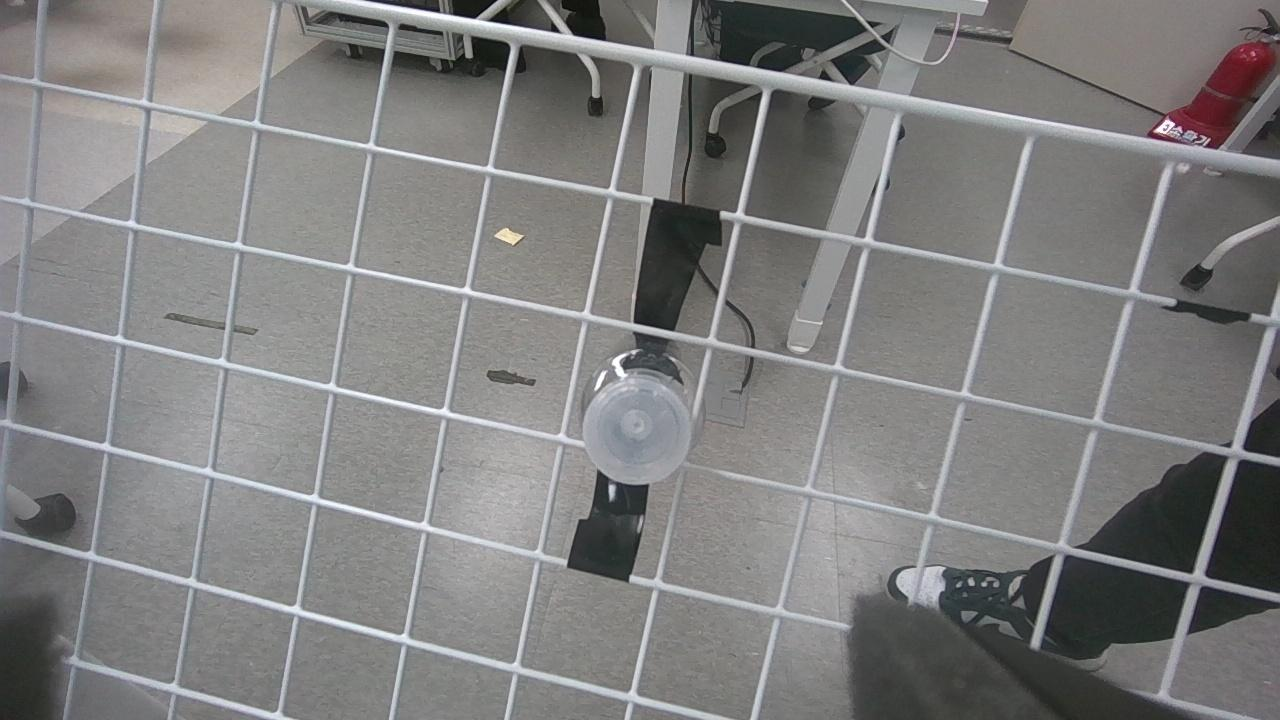Cap: (578, 376, 695, 485)
